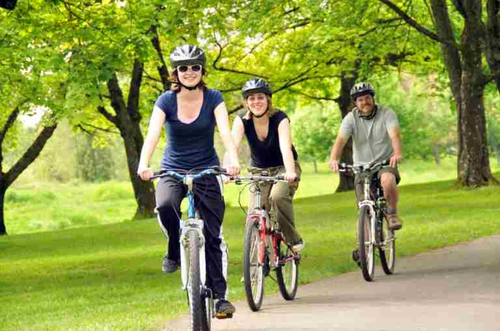bikerider: (130, 40, 239, 331), (218, 75, 309, 313), (326, 76, 410, 288)
